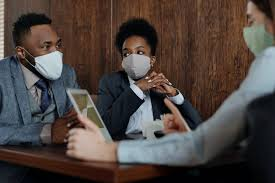with_mask: (16, 23, 64, 83), (122, 37, 155, 78)
